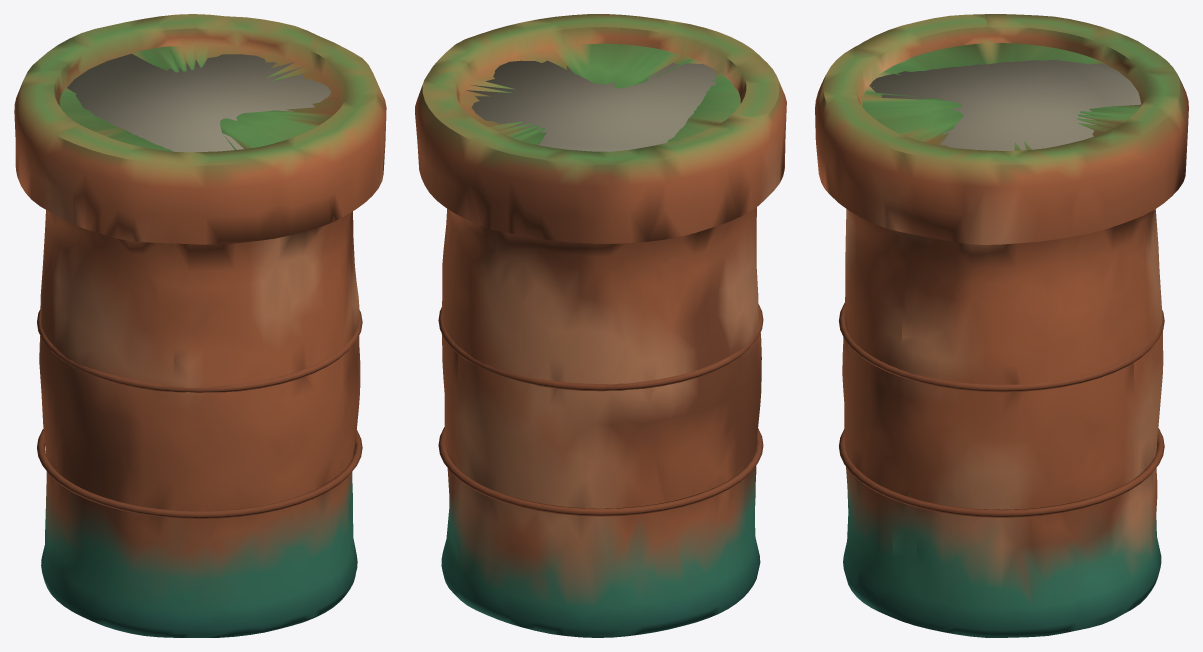
Rendered from grotto_clay_pipe.glb.
3 views of the same model, side by side, from view 1: azimuth 30°, elevation 25°; view 2: azimuth 150°, elevation 25°; view 3: azimuth 270°, elevation 25° (orthographic).
Parts seen in each view (by area): view 1: grotto_clay_pipe; view 2: grotto_clay_pipe; view 3: grotto_clay_pipe.
Part boxes in pixels (x1=…): grotto_clay_pipe: x1=14, y1=14, x2=386, y2=637; grotto_clay_pipe: x1=415, y1=14, x2=786, y2=637; grotto_clay_pipe: x1=815, y1=14, x2=1188, y2=637.
Bounding box in the file's own units: 7.03 × 10.06 × 7.02.
